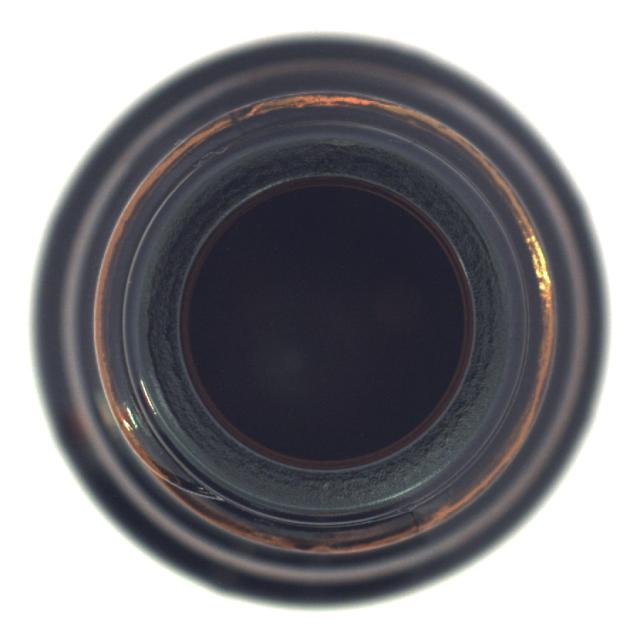bottle-good: (29, 34, 596, 606)
